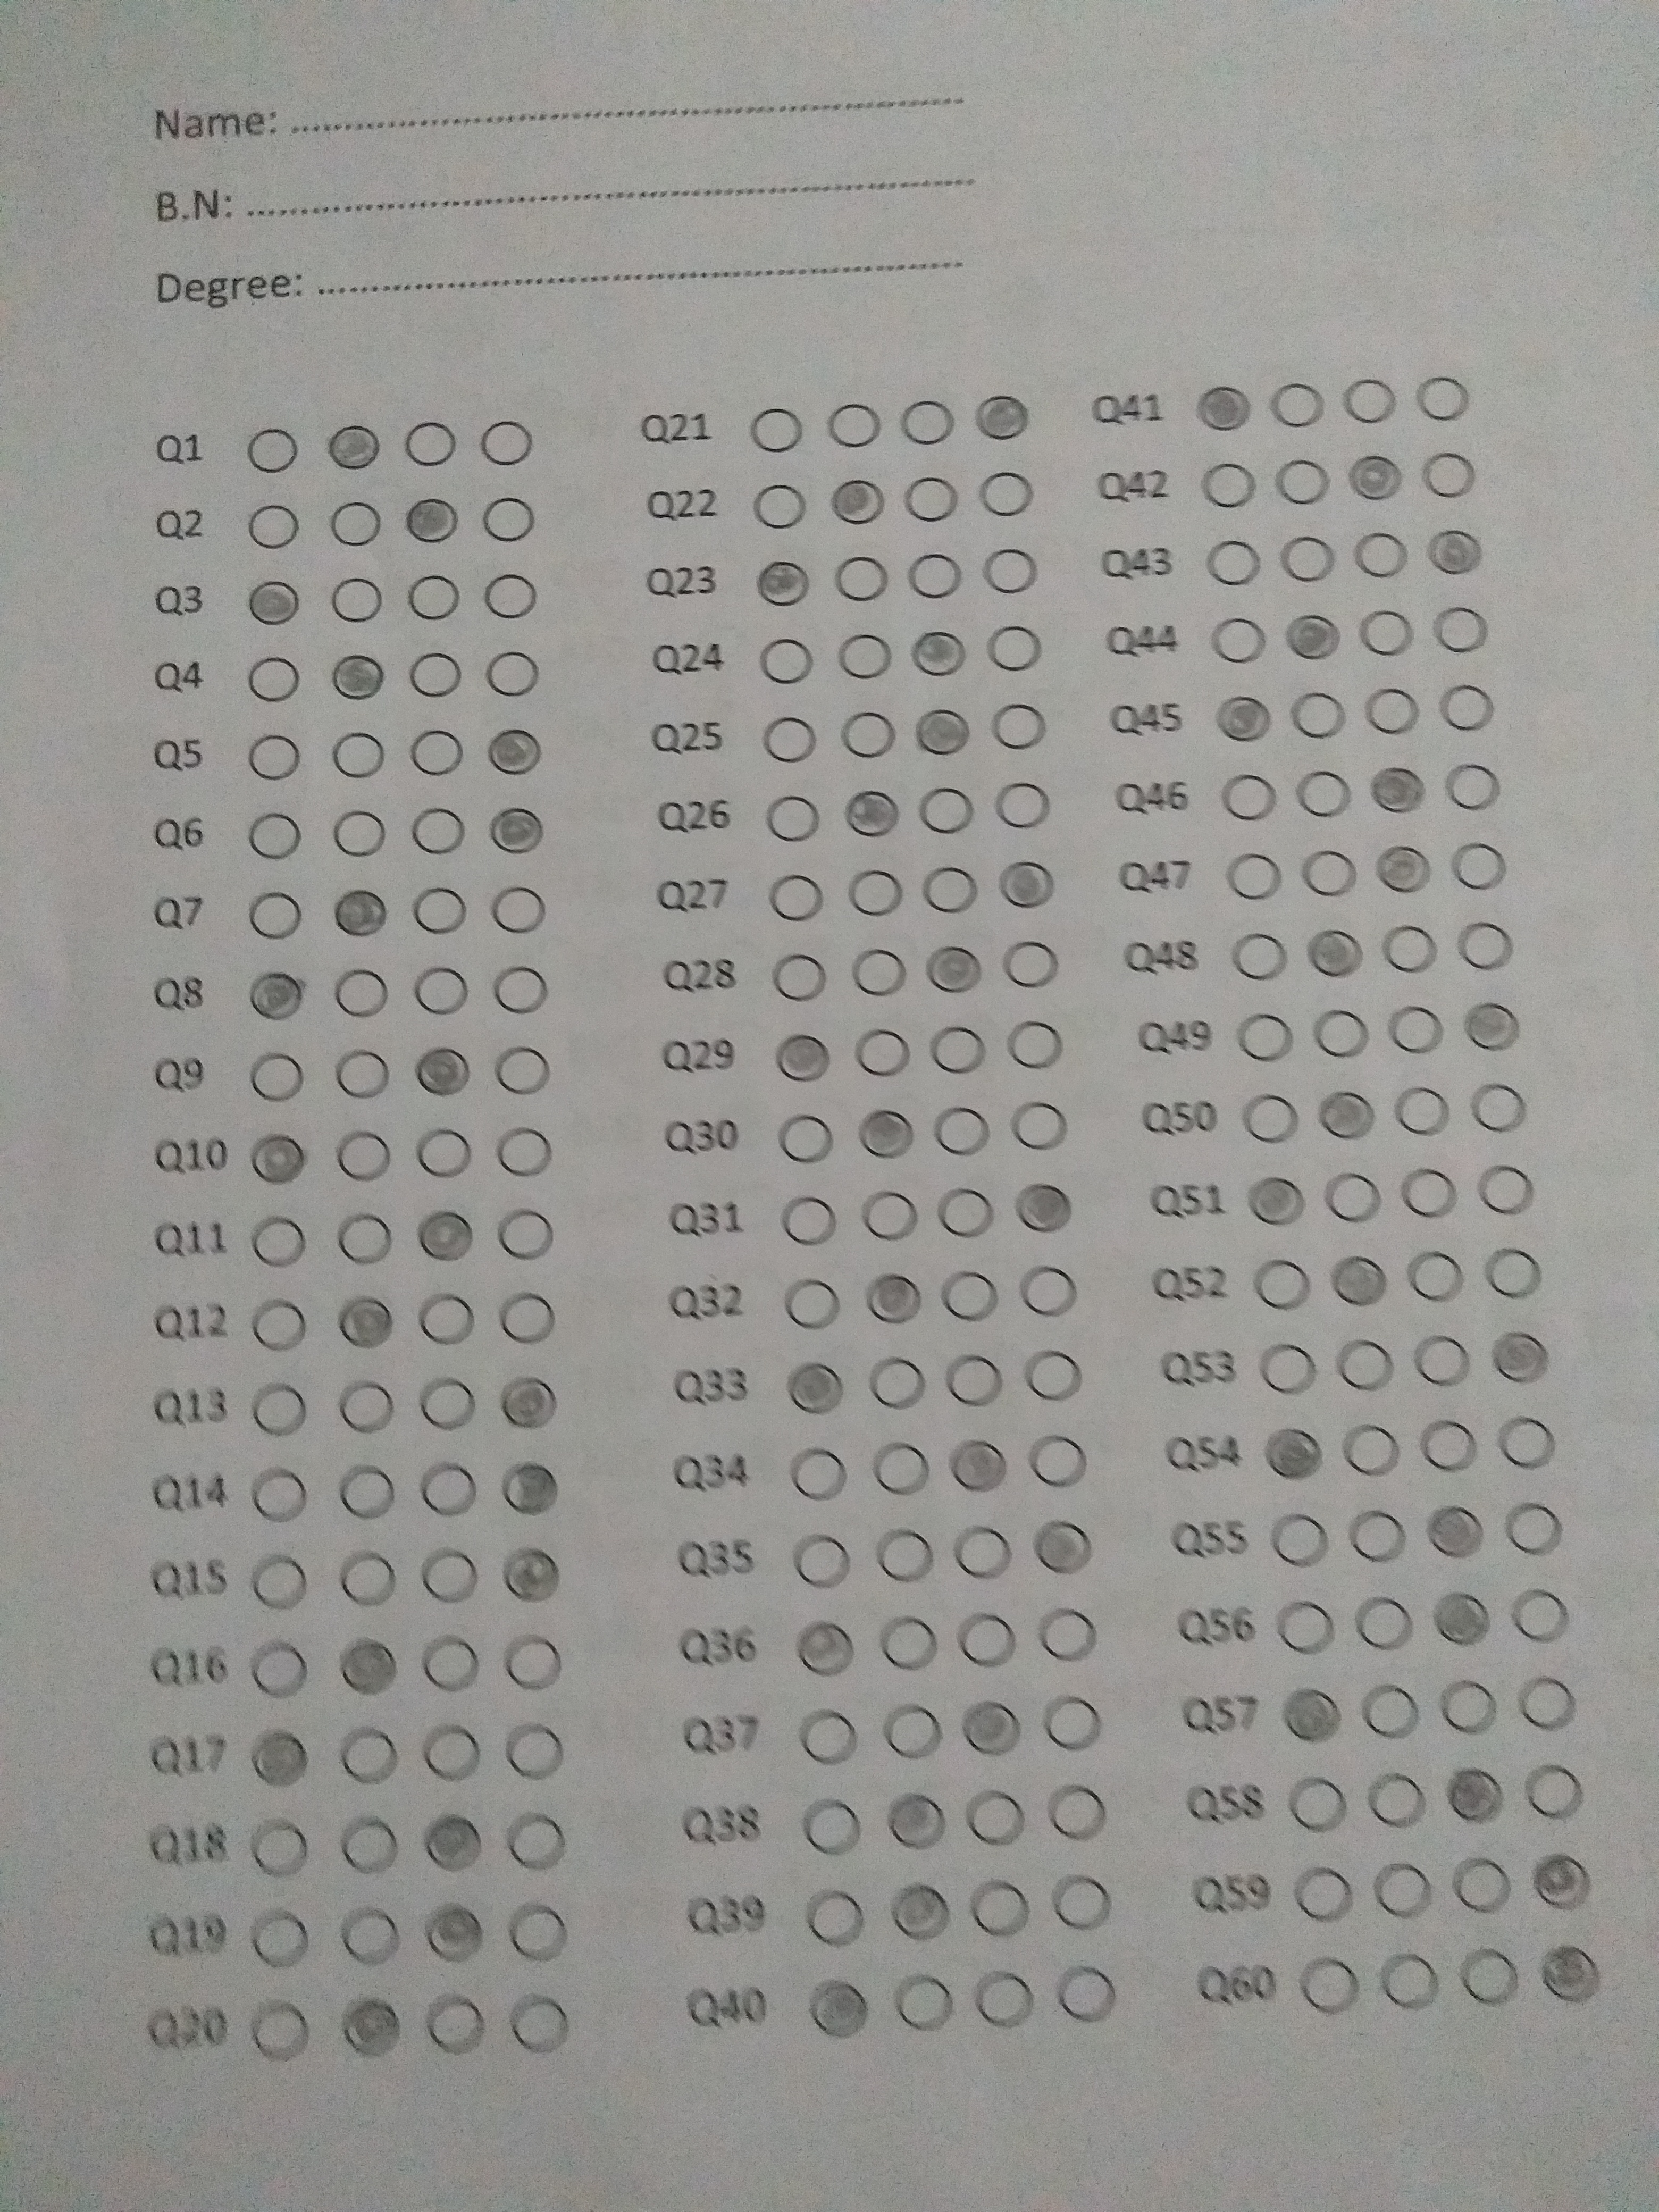not-c: (422, 1993, 493, 2057), (507, 1991, 579, 2055), (502, 1898, 573, 1963), (336, 1813, 408, 1878), (242, 1817, 314, 1881), (1293, 1954, 1364, 2019), (1373, 1951, 1445, 2015), (1455, 1944, 1527, 2008), (1284, 1771, 1356, 1836), (1030, 1601, 1101, 1665), (873, 1608, 945, 1672), (786, 1442, 857, 1507), (887, 1972, 958, 2036), (1042, 1780, 1114, 1844), (1046, 1872, 1117, 1937), (964, 1879, 1035, 1944), (796, 1794, 866, 1858), (498, 1808, 568, 1872), (1364, 1858, 1434, 1923), (1363, 1766, 1432, 1831), (1521, 1759, 1591, 1824), (951, 1606, 1021, 1670), (870, 1522, 939, 1587), (242, 2000, 312, 2064), (242, 1905, 312, 1970), (795, 1705, 864, 1770), (878, 1700, 948, 1764), (1051, 1963, 1121, 2027), (969, 1970, 1039, 2034), (1288, 1862, 1359, 1925), (802, 1886, 873, 1949), (1040, 1691, 1108, 1756), (1448, 1855, 1518, 1918), (340, 1905, 410, 1968), (965, 1785, 1030, 1848), (1467, 1080, 1534, 1141), (929, 1103, 995, 1163), (997, 934, 1063, 995), (845, 941, 911, 1001), (765, 944, 831, 1005), (990, 775, 1056, 836), (324, 963, 390, 1024), (333, 1376, 399, 1437), (491, 1122, 558, 1183), (1481, 1244, 1547, 1305), (1338, 1421, 1405, 1482), (873, 1439, 939, 1500), (941, 1350, 1007, 1411), (856, 1184, 922, 1245), (415, 1460, 481, 1521), (1028, 1428, 1093, 1489), (416, 1545, 481, 1606), (329, 1045, 396, 1104), (242, 1049, 308, 1108), (1239, 1090, 1305, 1150), (1007, 1097, 1073, 1157), (1232, 1008, 1298, 1068), (1384, 1001, 1450, 1061), (1455, 916, 1521, 975), (1378, 918, 1445, 977), (1225, 928, 1291, 988), (850, 1022, 917, 1082), (924, 1021, 990, 1080), (1004, 1014, 1070, 1073), (915, 782, 981, 841), (917, 857, 983, 916), (842, 862, 908, 921), (760, 867, 826, 927), (486, 961, 552, 1021), (788, 1531, 854, 1590), (932, 1183, 999, 1242), (244, 1381, 310, 1440), (413, 1374, 479, 1433), (246, 1296, 312, 1355), (413, 1291, 479, 1350), (493, 1287, 559, 1346), (246, 1212, 312, 1271), (331, 1207, 397, 1266), (490, 1205, 556, 1264), (331, 1127, 397, 1186), (411, 1122, 477, 1181), (490, 1040, 556, 1099), (1410, 1331, 1476, 1390), (1256, 1338, 1323, 1397), (1406, 1245, 1473, 1305), (1249, 1254, 1316, 1313), (1474, 1158, 1540, 1217), (1436, 1677, 1502, 1737), (1358, 1683, 1424, 1742), (1270, 1599, 1337, 1658), (1507, 1585, 1574, 1644), (1500, 1500, 1567, 1559), (1345, 1507, 1412, 1566), (1267, 1510, 1333, 1569), (1493, 1413, 1560, 1472), (1419, 1416, 1485, 1475), (951, 1522, 1018, 1581), (1019, 1345, 1086, 1404), (1018, 1261, 1084, 1320), (775, 1188, 842, 1247), (500, 1719, 566, 1778), (420, 1724, 486, 1784), (416, 1635, 483, 1695), (246, 1641, 312, 1700), (247, 1555, 314, 1615), (781, 1273, 845, 1332), (1398, 1163, 1462, 1223), (1391, 1082, 1455, 1141), (1321, 1169, 1385, 1228), (775, 1111, 840, 1170), (1309, 1001, 1373, 1061), (410, 960, 474, 1019), (1333, 1336, 1398, 1395), (1516, 1676, 1581, 1735), (1354, 1595, 1419, 1655), (864, 1352, 929, 1411), (938, 1264, 1002, 1324), (336, 1726, 401, 1785), (500, 1632, 565, 1691), (336, 1548, 401, 1608), (247, 1465, 312, 1524), (335, 1463, 399, 1522), (762, 789, 821, 846), (756, 714, 821, 766), (1413, 371, 1474, 425), (1267, 380, 1328, 434), (751, 481, 812, 535), (903, 470, 964, 524), (978, 543, 1039, 597), (490, 881, 551, 935), (410, 881, 471, 935), (328, 573, 389, 627), (476, 491, 537, 545), (1436, 681, 1497, 735), (1351, 528, 1412, 582), (1206, 535, 1265, 589), (329, 808, 389, 862), (246, 732, 305, 786), (484, 648, 544, 702), (246, 651, 305, 705), (406, 648, 465, 702), (242, 421, 301, 475), (1448, 838, 1507, 892), (1295, 765, 1354, 819), (1290, 688, 1349, 742), (746, 404, 807, 456), (1277, 533, 1338, 585), (1197, 460, 1258, 512), (903, 550, 964, 603), (831, 554, 892, 606), (833, 632, 894, 685), (755, 636, 816, 688), (246, 888, 307, 941), (244, 810, 305, 862), (329, 728, 390, 780), (479, 570, 540, 622), (403, 571, 464, 624), (244, 500, 305, 552), (326, 498, 387, 550), (474, 418, 535, 470), (823, 399, 884, 451), (1300, 846, 1361, 899), (1223, 850, 1284, 902), (1206, 613, 1267, 665), (1356, 608, 1417, 660), (1272, 458, 1331, 510), (1419, 449, 1478, 502), (1340, 374, 1399, 427), (976, 469, 1035, 521), (408, 805, 467, 857), (408, 726, 467, 779), (399, 418, 458, 470), (899, 397, 958, 449), (990, 697, 1049, 749), (985, 622, 1044, 674), (838, 709, 897, 761), (1443, 759, 1502, 812), (1218, 772, 1277, 824), (1363, 685, 1422, 737), (1432, 603, 1492, 655)
taken-c: (807, 1979, 877, 2041), (884, 1787, 951, 1850), (1486, 1324, 1554, 1386), (498, 1460, 566, 1522), (498, 1545, 566, 1608), (336, 1639, 404, 1702), (946, 1432, 1014, 1494), (1030, 1519, 1098, 1581), (791, 1618, 859, 1681), (960, 1698, 1028, 1761), (887, 1881, 955, 1944), (247, 1726, 315, 1789), (422, 1815, 490, 1878), (422, 1905, 490, 1968), (338, 1994, 406, 2057), (1262, 1421, 1330, 1484), (1422, 1501, 1490, 1564), (1431, 1590, 1499, 1653), (1277, 1683, 1345, 1745), (1441, 1764, 1509, 1827), (1530, 1851, 1598, 1914), (1537, 1940, 1605, 2003), (493, 1369, 559, 1432), (413, 1207, 479, 1268), (1324, 1252, 1392, 1312), (246, 1129, 308, 1190), (1316, 1085, 1378, 1146), (333, 1294, 397, 1353), (786, 1357, 847, 1418), (924, 939, 985, 1000), (911, 702, 972, 763), (328, 883, 389, 944), (413, 1043, 474, 1104), (246, 968, 307, 1029), (1424, 523, 1485, 583), (1283, 604, 1344, 665), (1309, 925, 1370, 986), (1460, 995, 1521, 1055), (1248, 1170, 1309, 1231), (972, 388, 1033, 449), (828, 474, 889, 535), (908, 624, 969, 685), (1012, 1176, 1073, 1237), (863, 1264, 924, 1325), (854, 1103, 915, 1163), (1366, 759, 1429, 819), (772, 1028, 833, 1087), (997, 855, 1058, 914), (843, 779, 904, 838), (1344, 449, 1405, 509), (1371, 838, 1432, 897), (753, 554, 814, 613), (486, 801, 549, 857), (328, 648, 387, 705), (1213, 691, 1272, 749), (484, 725, 545, 780), (1194, 381, 1256, 435), (322, 418, 382, 474), (403, 491, 462, 547), (242, 578, 305, 631)
